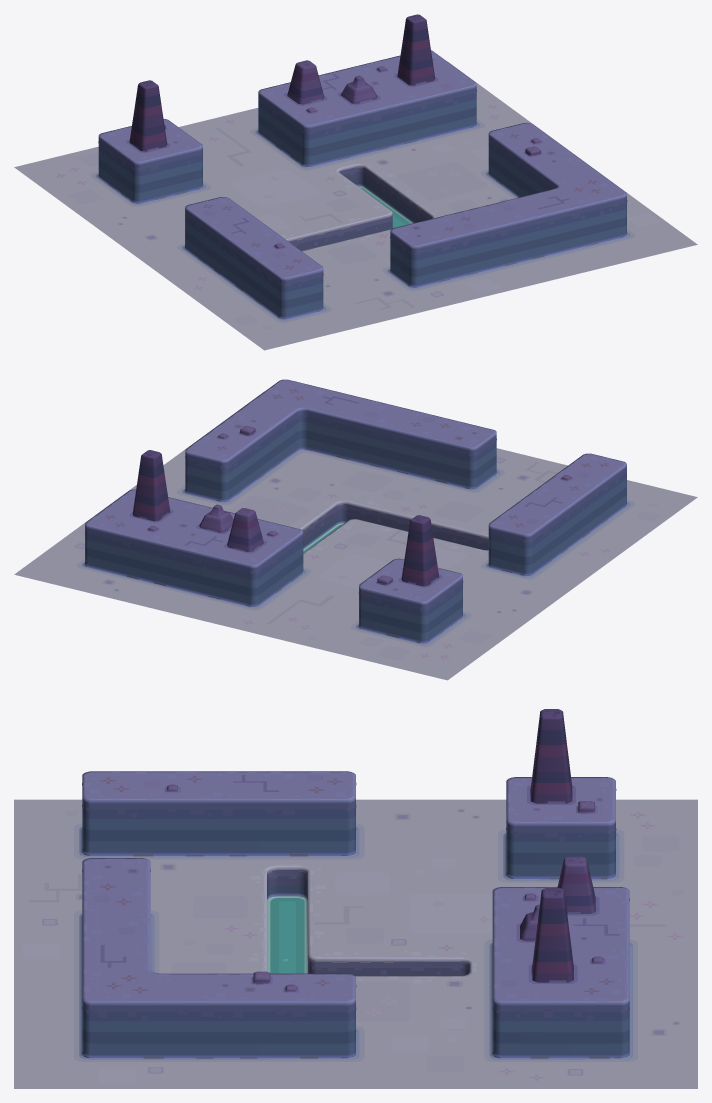
File: C_cave1_07.fbx
3 renders of one model, top to bottom at view 1: azimuth 30°, elevation 25°; view 2: azimuth 150°, elevation 25°; view 3: azimuth 270°, elevation 25°, orthographic. The views are drawn at different scales.
Parts seen in each view (by area): view 1: model; view 2: model; view 3: model.
Boxes of the visible parts, x1,y1,x2,y2 form: model: [14, 14, 697, 350]; model: [14, 379, 697, 680]; model: [14, 709, 697, 1088].
Size of the model in its own units: 50 by 14.78 by 50.
Materials: 1 (1 with a texture image).
